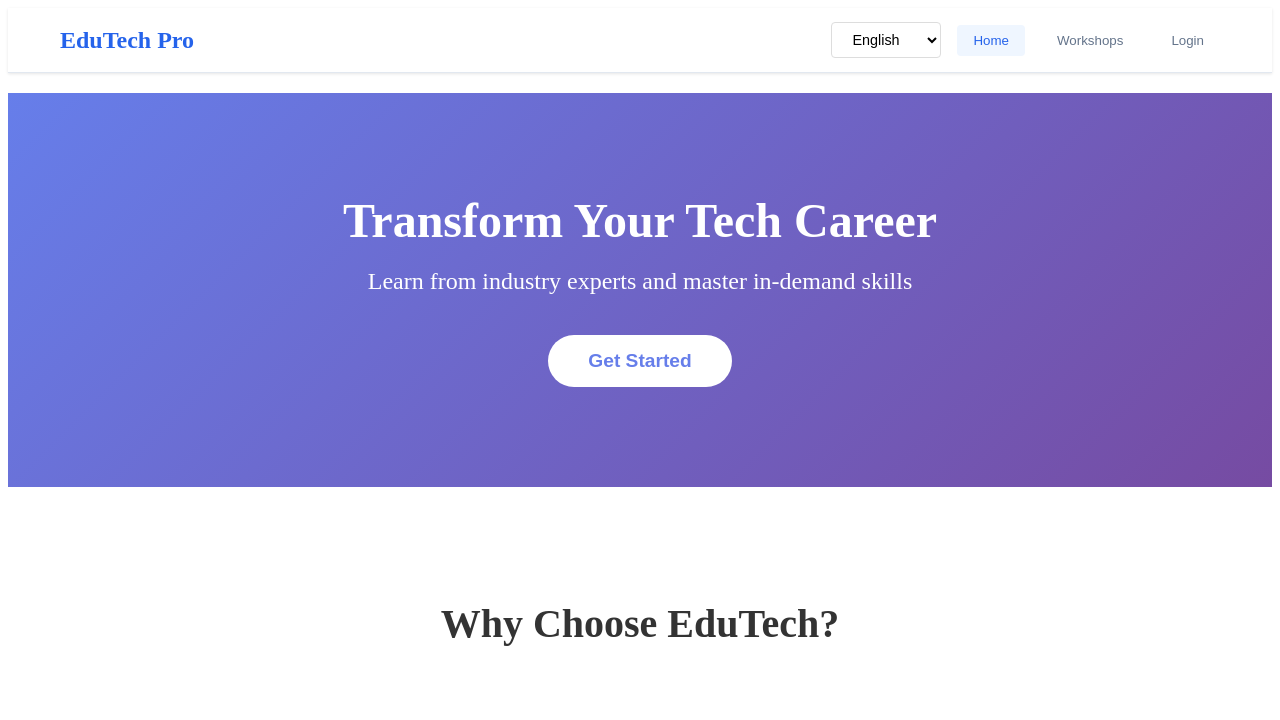
Test case: Form Validation › Login Form › should toggle to register mode
Click the button "Login" at (1188, 41), box [1155,25,1220,56]
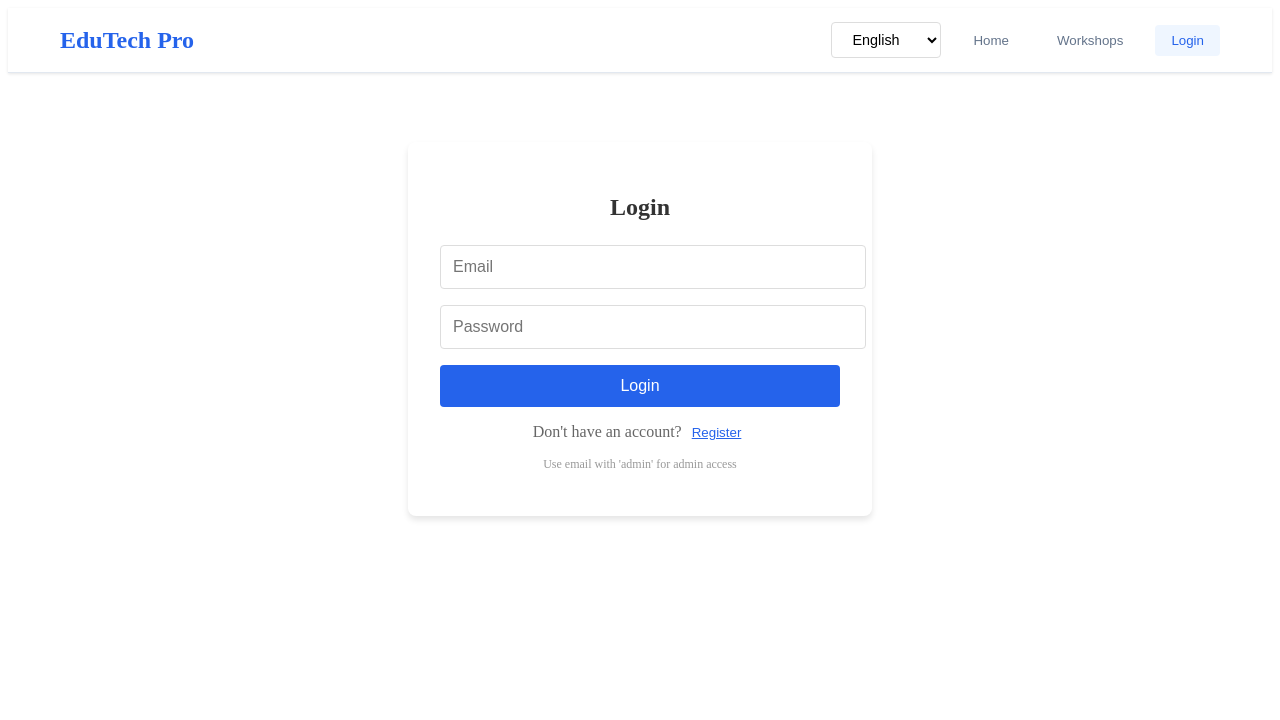
Click the button with class "toggle-btn" at (717, 433), box [686,424,748,441]
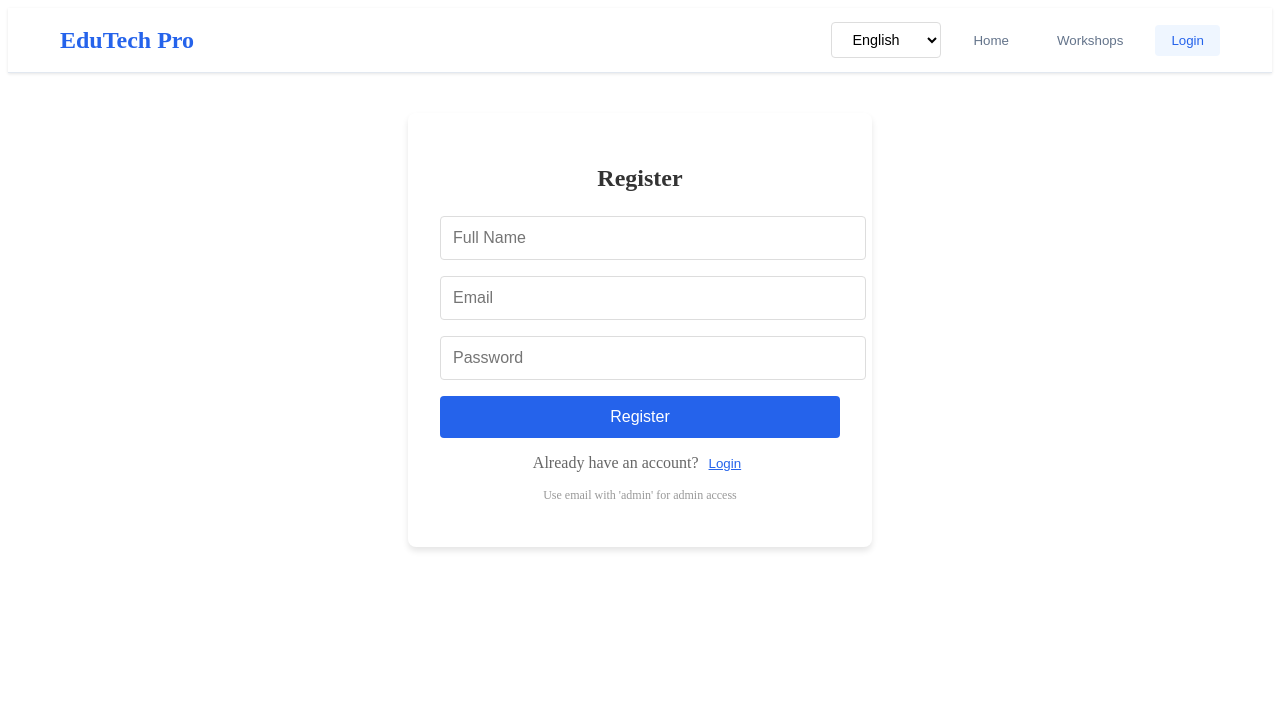
Now the heading "Register" is shown, box [597,165,683,191]
